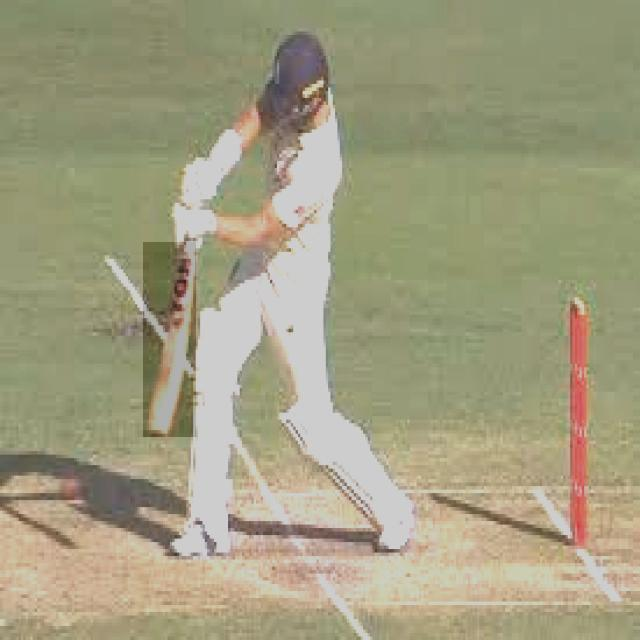bat: (143, 240, 195, 439)
toe: (143, 425, 169, 435)
